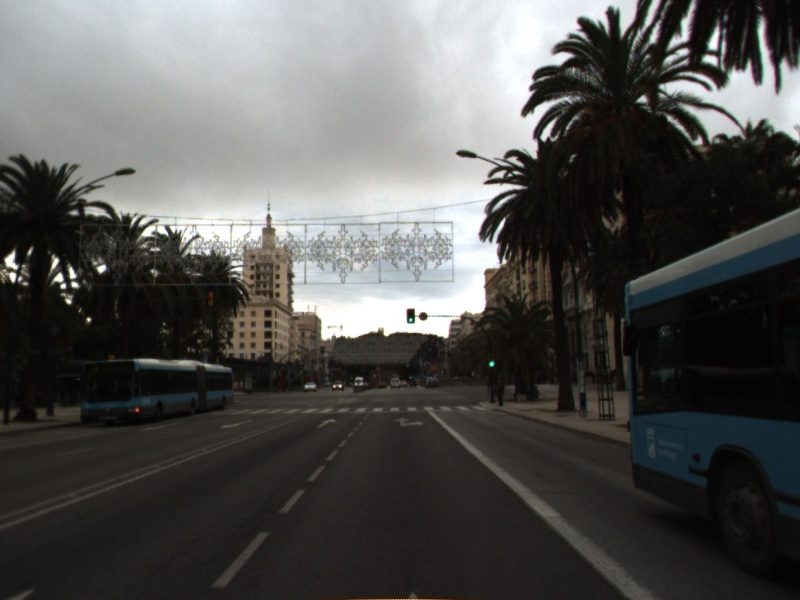STRAIGHT: (315, 416, 338, 429)
STRAIGHT_RIGHT: (392, 415, 427, 429)
